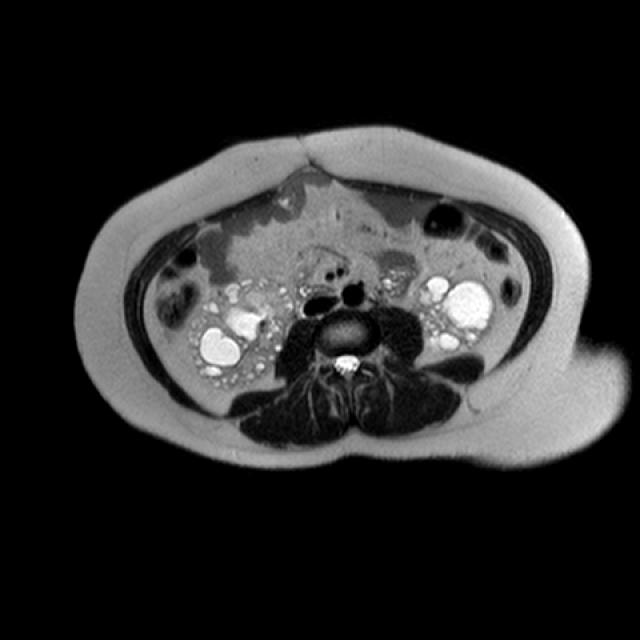sag: (187, 277, 297, 393)
sol: (413, 272, 494, 357)
